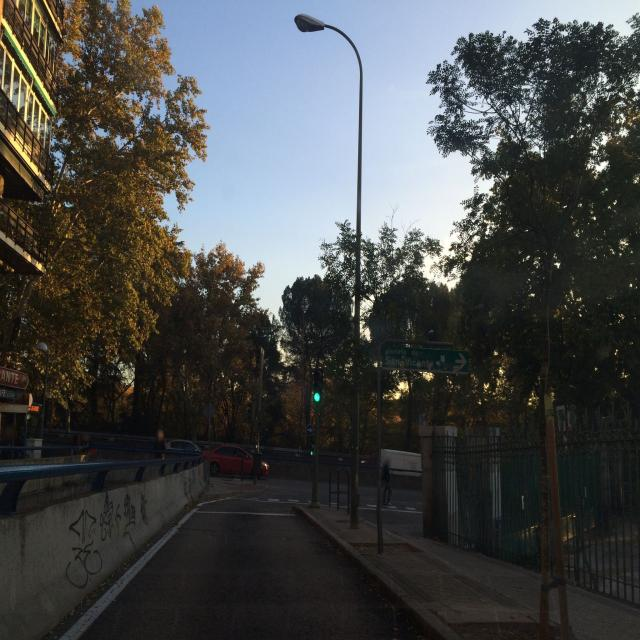car: (202, 444, 270, 479), (163, 438, 204, 461)
